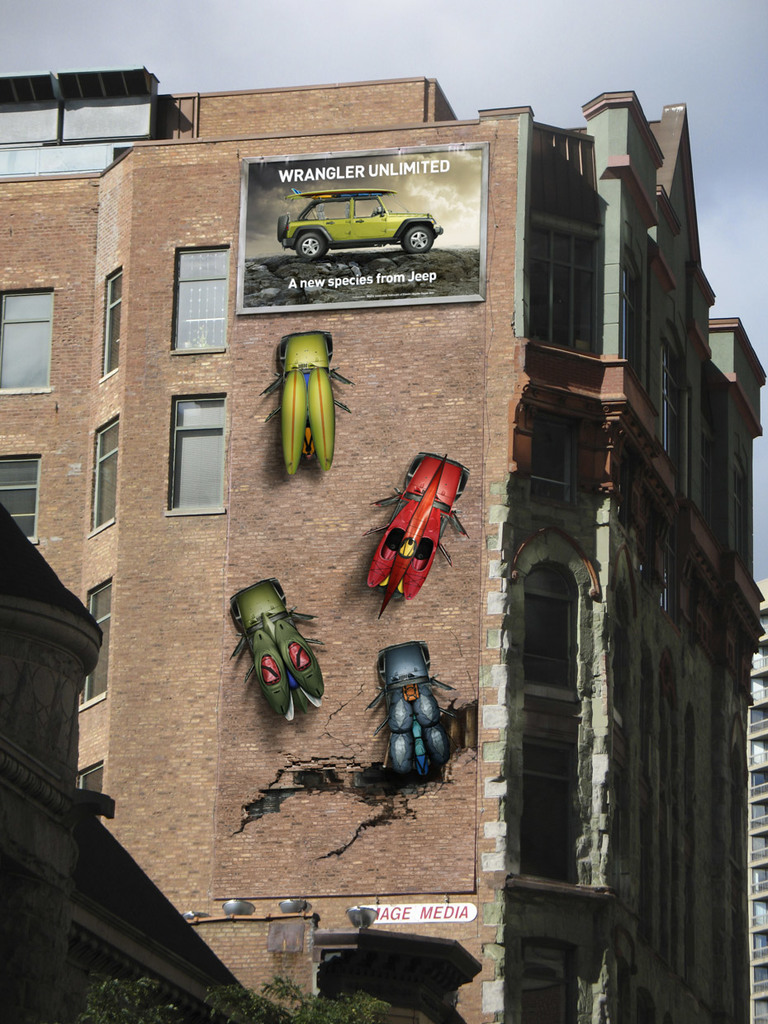Car: (268, 169, 445, 260)
